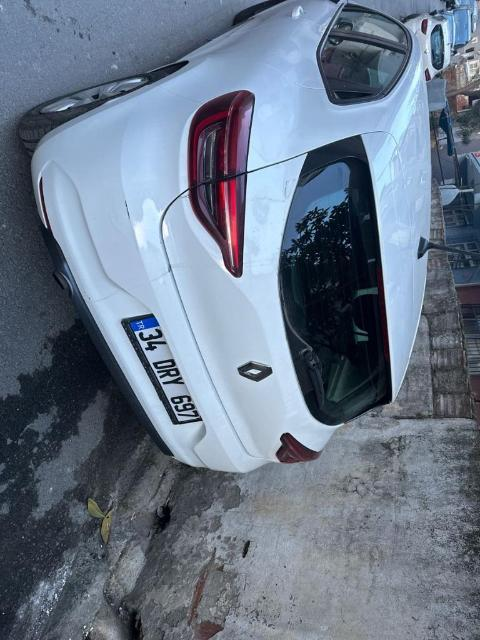scratch: (125, 198, 131, 221), (87, 295, 91, 300), (83, 291, 86, 293)
